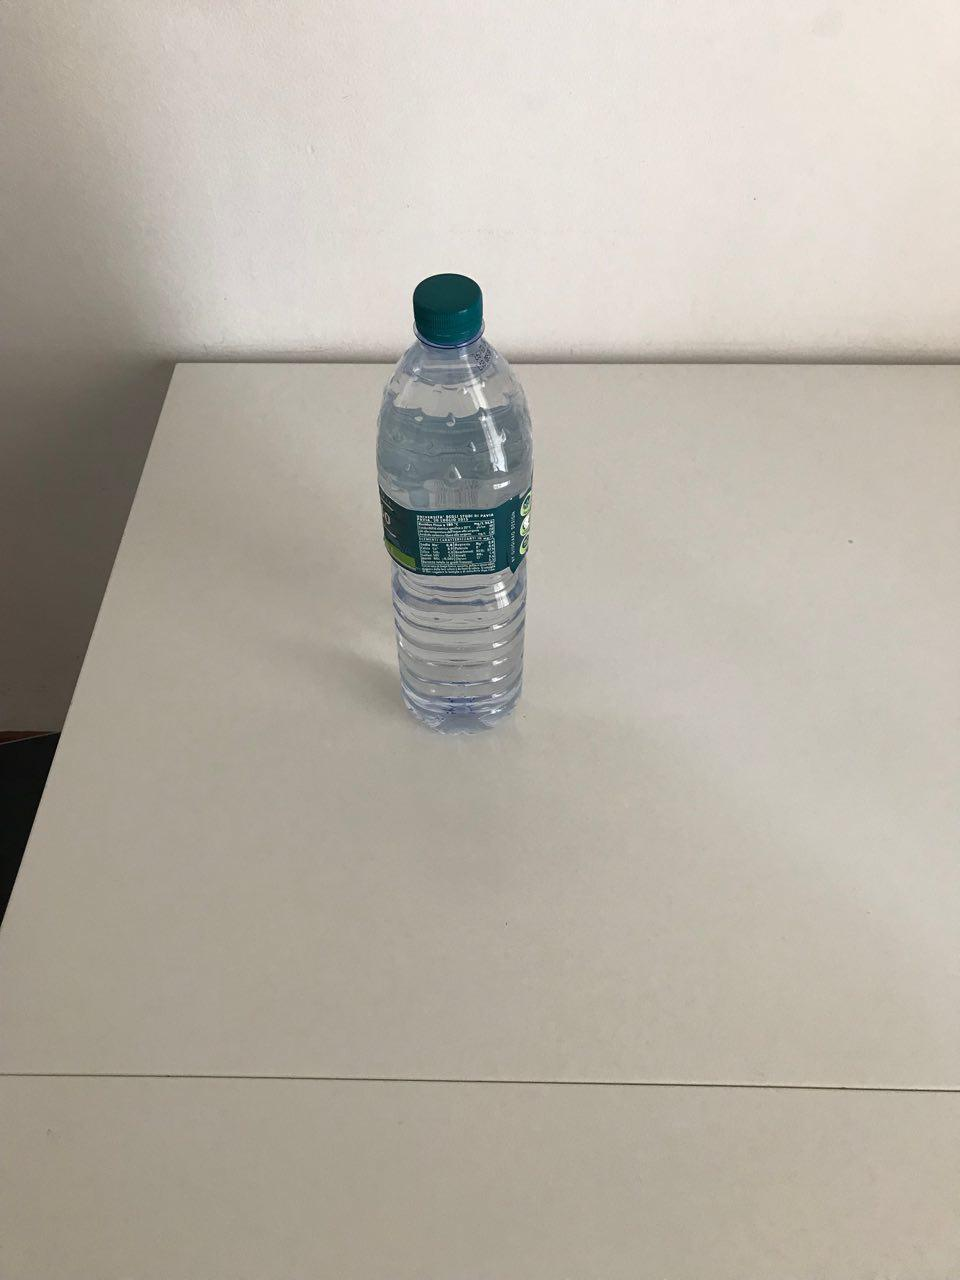san_bernardo: (375, 270, 535, 742)
